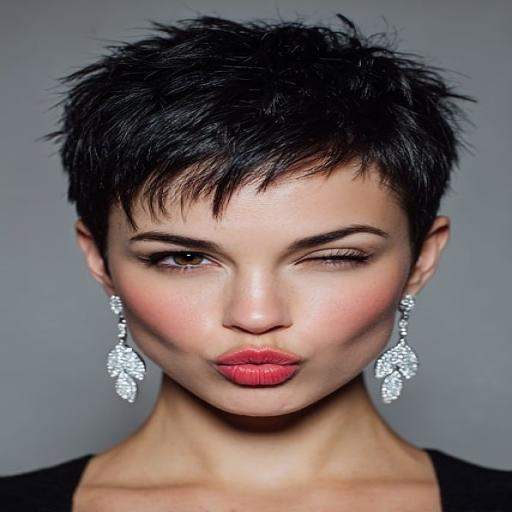lipstick: (216, 348, 300, 385)
